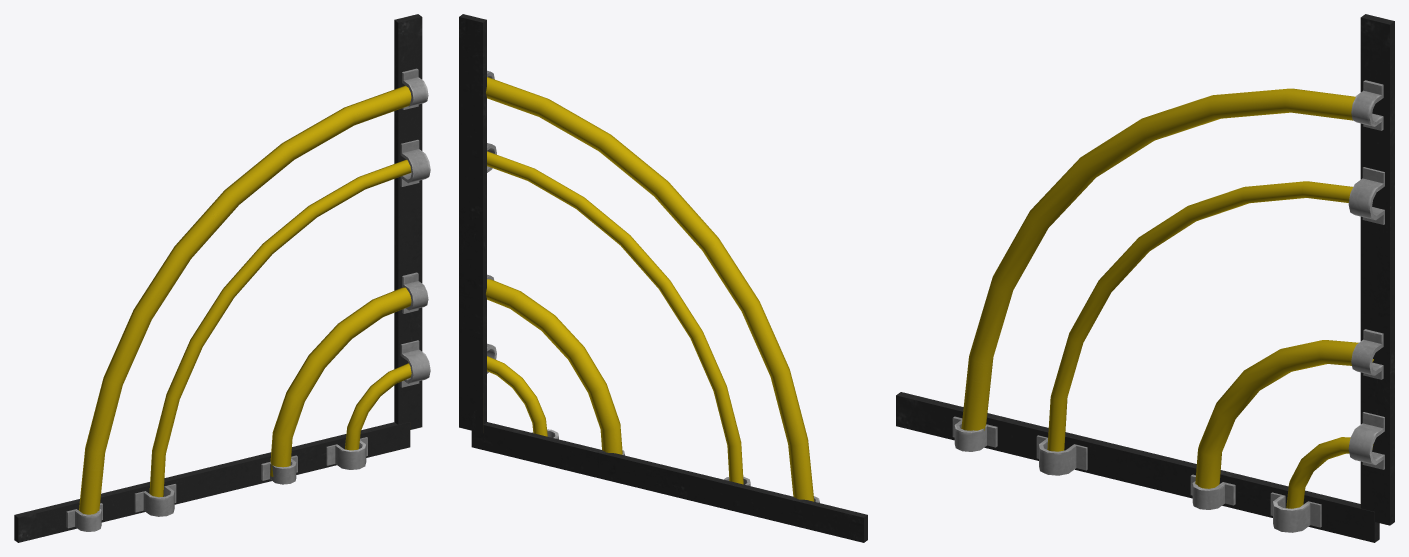
Rendered from ElectricalWires02_Curve01.glb.
3 renders of one model, left to right at view 1: azimuth 30°, elevation 25°; view 2: azimuth 150°, elevation 25°; view 3: azimuth 330°, elevation 25°, orthographic. The views are drawn at different scales.
Visible parts, largest first — view 1: Plane_001_2; view 2: Plane_001_2; view 3: Plane_001_2.
Boxes of the visible parts, bbox=[...] form: Plane_001_2: bbox=[14, 14, 430, 542]; Plane_001_2: bbox=[459, 14, 867, 542]; Plane_001_2: bbox=[896, 14, 1394, 542].
Bounding box in the file's own units: 2.35 × 2.37 × 0.1697.
Materials: 1 (1 with a texture image).
